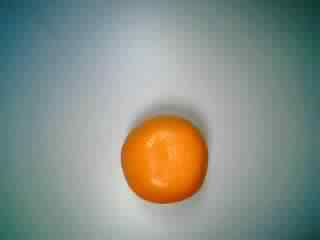orange: (116, 110, 212, 206)
